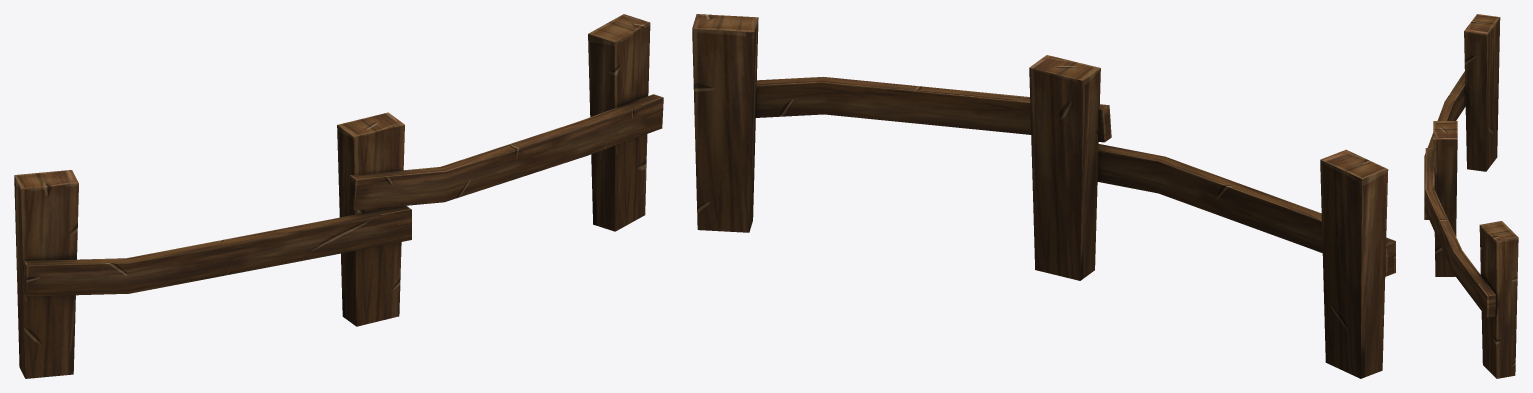
Rendered from modelFenceCurve.fbx.
The picture shows the model from 3 angles, left to right: view 1: azimuth 30°, elevation 25°; view 2: azimuth 150°, elevation 25°; view 3: azimuth 270°, elevation 25°; orthographic projection. The views are drawn at different scales.
Parts seen in each view (by area): view 1: modelFenceCurve; view 2: modelFenceCurve; view 3: modelFenceCurve.
Boxes of the visible parts, box(x1,y1,x2,y2) form: modelFenceCurve: box(14, 14, 663, 378); modelFenceCurve: box(692, 14, 1395, 378); modelFenceCurve: box(1424, 14, 1518, 378).
Size of the model in its own units: 22.43 by 6.32 by 3.88.
